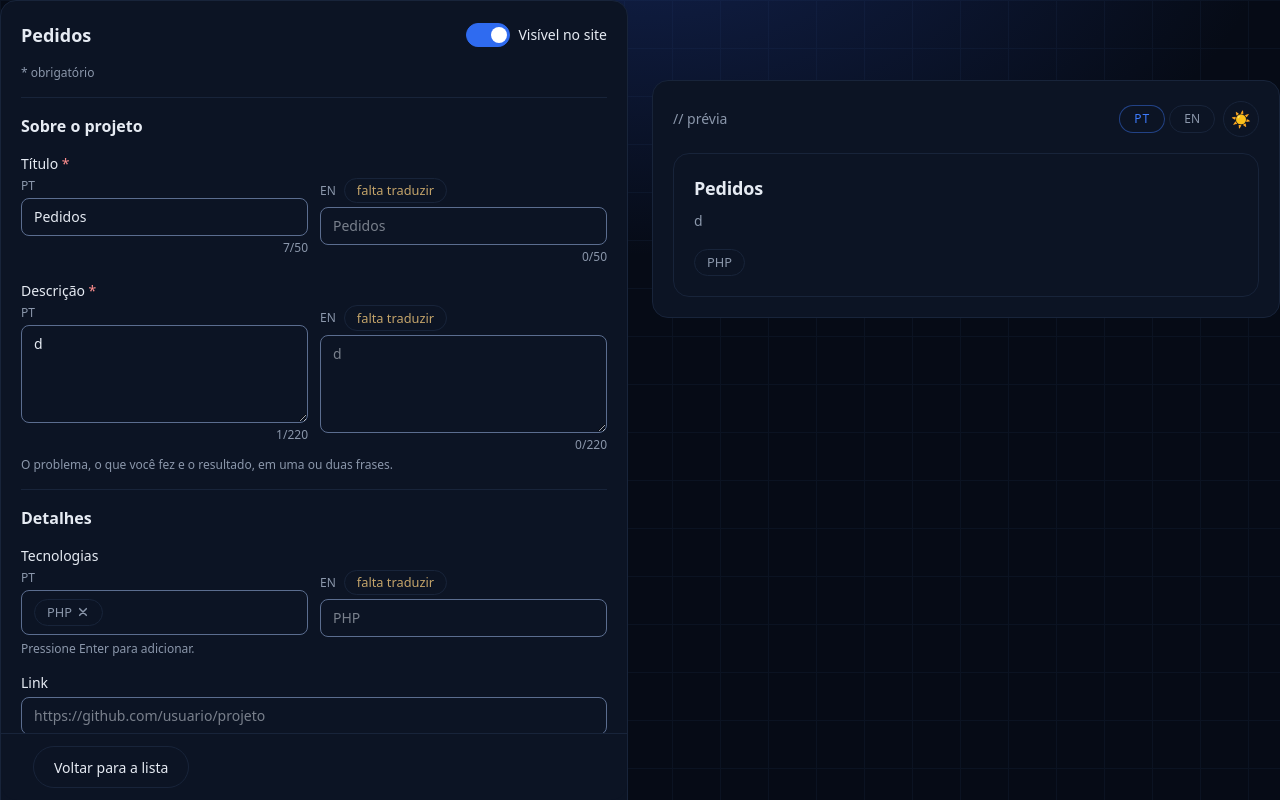
ItemEditor existente › digitar e esperar 800 ms grava sem clicar em nada
Replace the text in the field named "Título em português" with "Novo título". click: (164, 217)
box: [21, 198, 308, 236]
Wait 800 ms
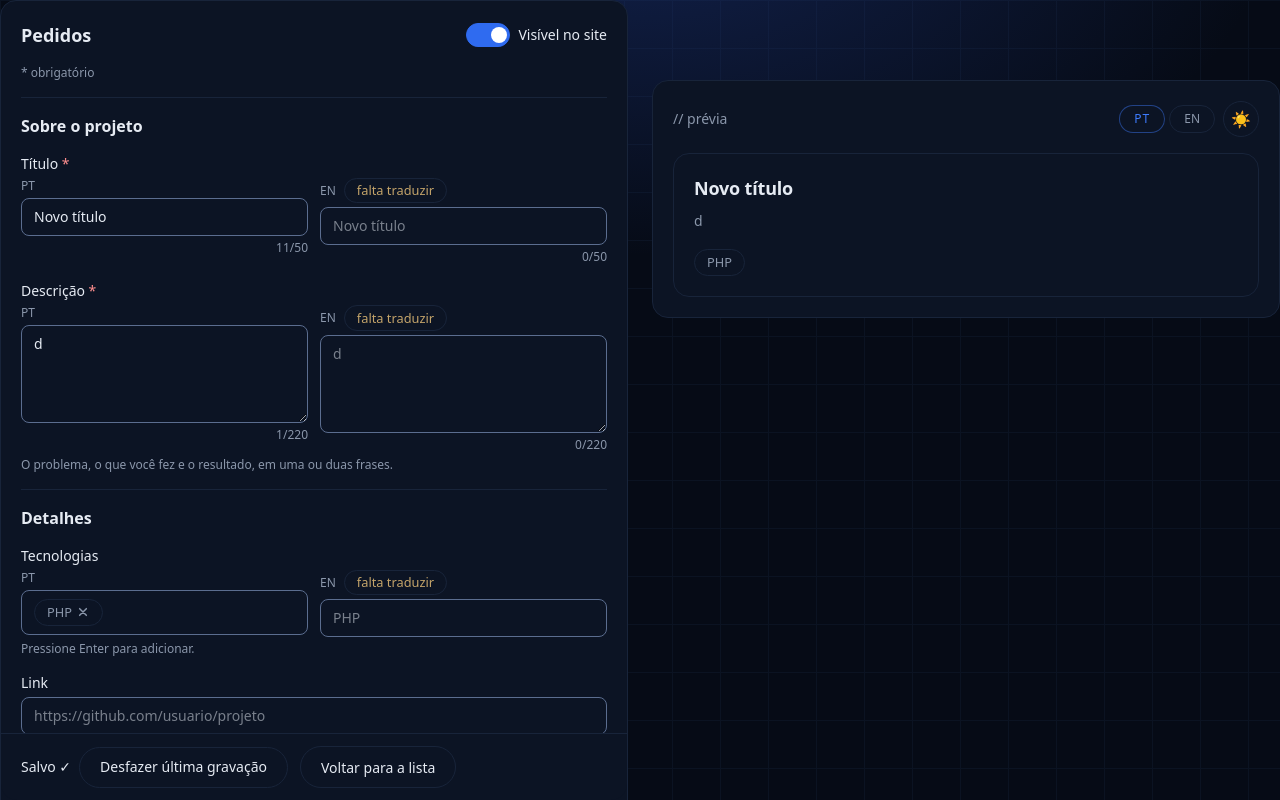
Check: the heading "Novo título" is shown, box [694, 176, 793, 200]
Check: the text "Salvo ✓" is shown, box [21, 757, 71, 777]
Check: the button "Desfazer última gravação" is shown, box [79, 746, 288, 788]
